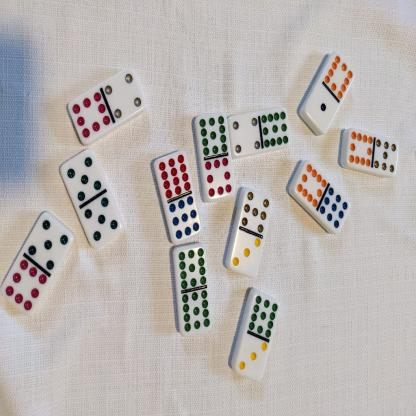pip-1: (304, 90, 336, 133)
pip-10: (322, 50, 354, 100), (295, 161, 326, 205), (347, 126, 373, 169)
pip-11: (173, 245, 207, 288), (181, 287, 210, 335), (195, 113, 228, 155), (249, 294, 277, 338), (260, 109, 290, 149)
pip-12: (153, 150, 190, 199)
pip-3: (234, 338, 268, 382), (230, 233, 263, 276)
pip-4: (105, 66, 146, 118), (229, 115, 260, 159)
pip-5: (28, 210, 72, 270), (59, 149, 101, 203), (84, 197, 122, 248)
pip-7: (240, 187, 272, 233), (373, 134, 398, 176)
pip-8: (4, 258, 47, 316), (66, 89, 110, 144), (204, 156, 235, 200)
pip-9: (320, 185, 350, 234), (169, 196, 201, 241)
